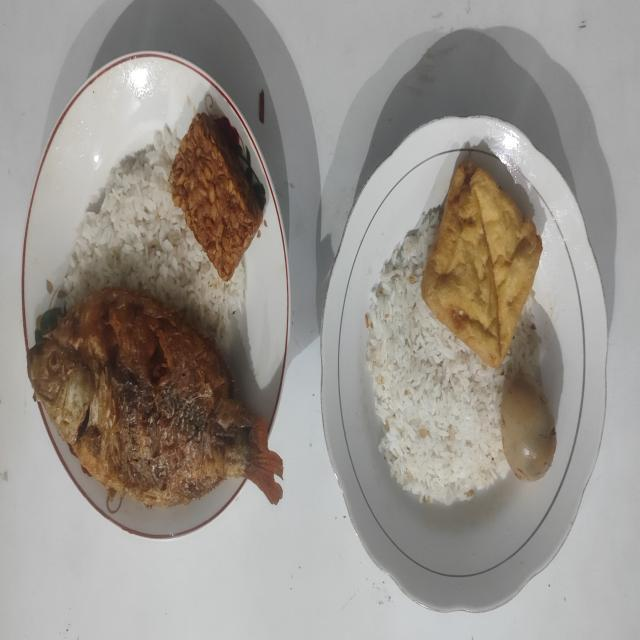ikan_mujair: (28, 288, 282, 506)
nasi_putih: (366, 208, 539, 506), (60, 129, 246, 352)
tahu_goreng: (422, 163, 542, 369)
tempe_goreng: (169, 114, 263, 280)
